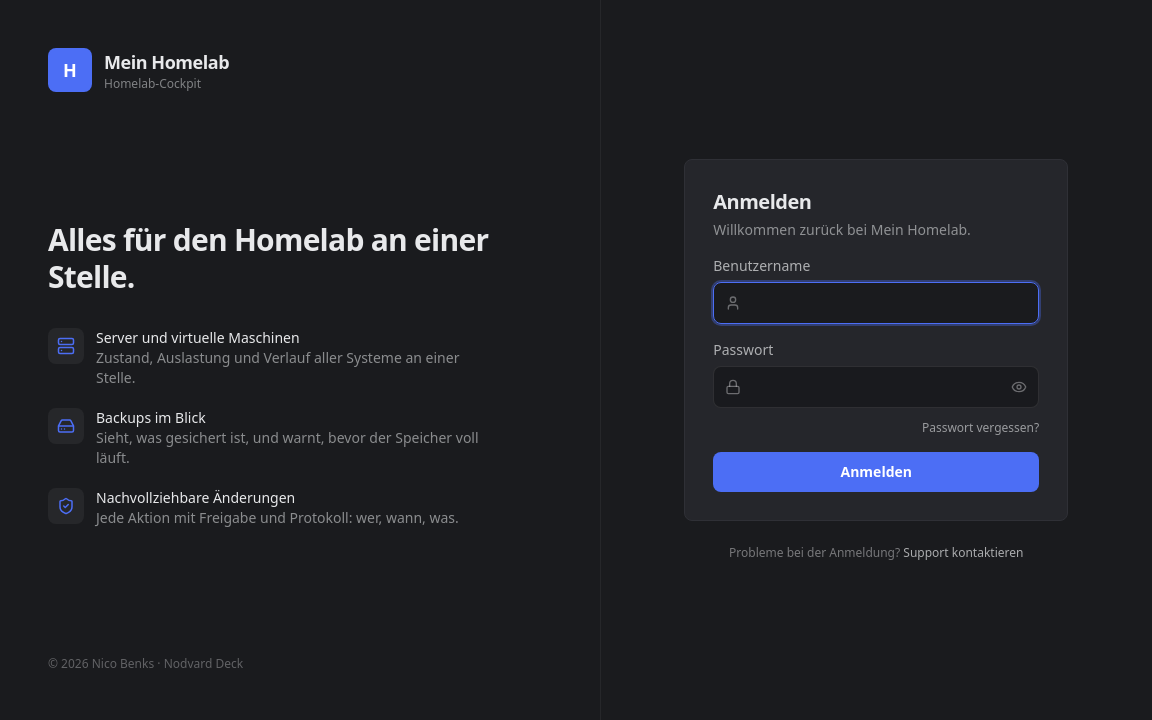
LoginPage › Server nicht erreichbar: Hinweis statt endlos „Bitte warten …“
Type "admin" into the field labelled "Benutzername" at (876,303), box x1=713 y1=282 x2=1039 y2=324
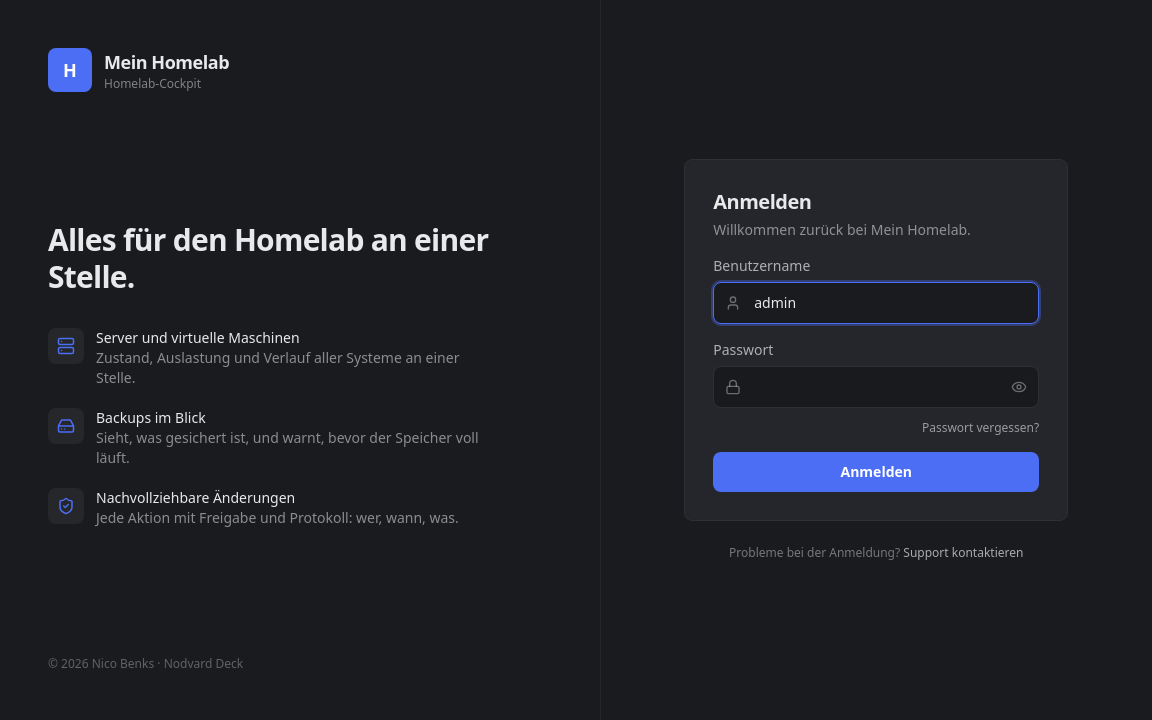
Type "geheim" into the password field labelled "Passwort" at (876,387), box x1=713 y1=366 x2=1039 y2=408
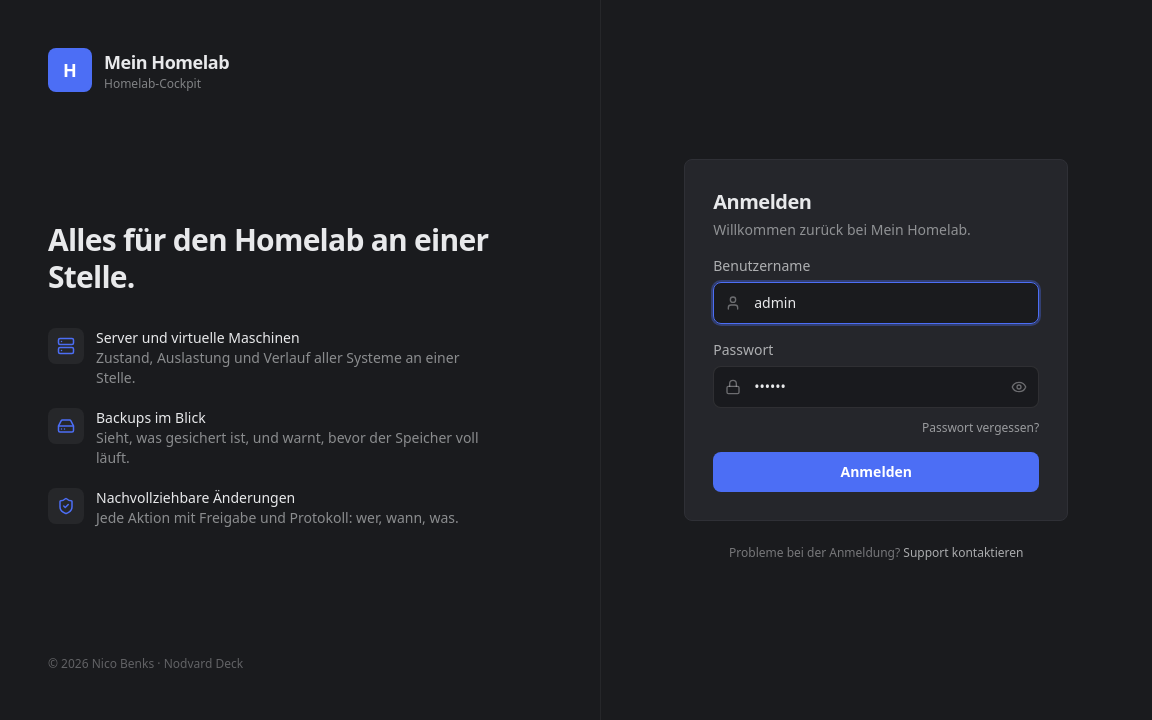
Click the button "Anmelden" at (876,472), box x1=713 y1=452 x2=1039 y2=492
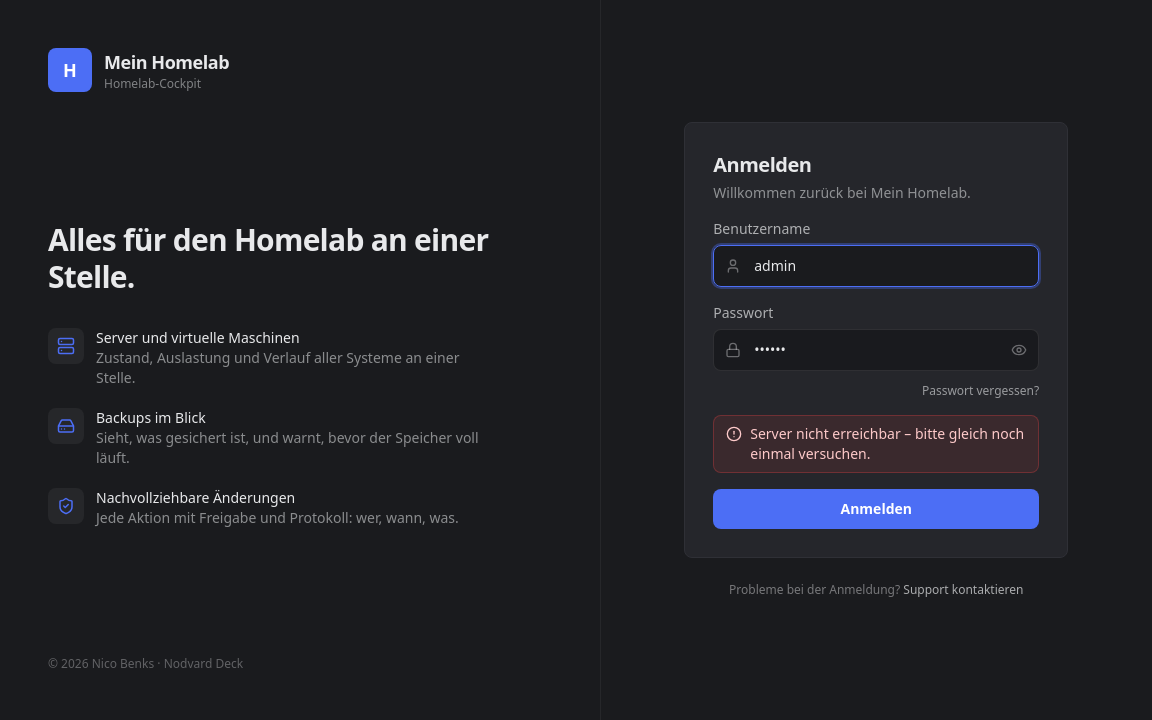
expect the button "Anmelden" is enabled: met, box x1=713 y1=489 x2=1039 y2=529
expect the message reads "Server nicht erreichbar – bitte gleich noch einmal versuchen.": met, box x1=750 y1=424 x2=1024 y2=463
